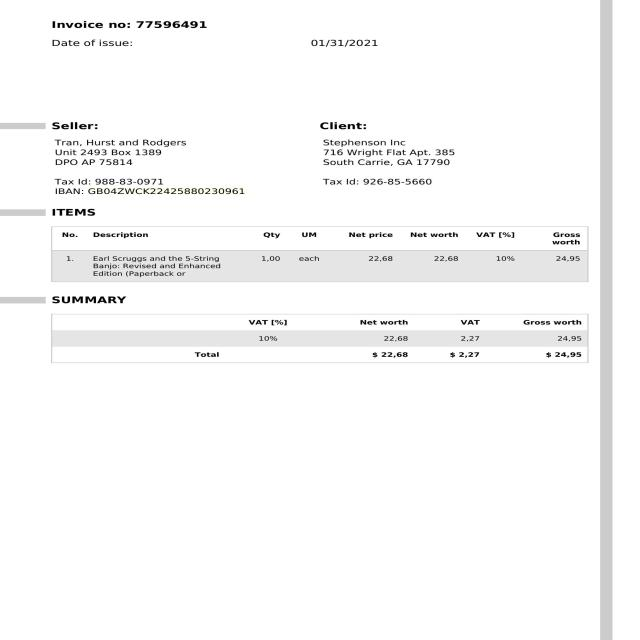customer_address: (321, 146, 458, 168)
customer_name: (320, 137, 450, 148)
invoice_date: (306, 37, 381, 49)
invoice_number: (133, 16, 225, 34)
invoice_subtotal: (355, 348, 421, 362)
invoice_total: (538, 349, 586, 360)
item_description: (87, 254, 230, 281)
item_quantity: (252, 254, 286, 278)
item_total_price: (419, 253, 471, 275)
item_unit_price: (359, 253, 402, 275)
supplier_address: (52, 148, 191, 168)
supplier_name: (55, 136, 199, 146)
tax_amount: (438, 348, 488, 360)
tax_rate: (252, 332, 283, 346)
